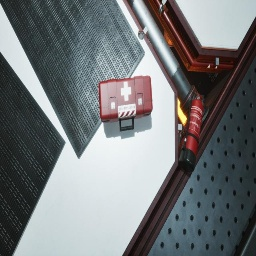FireExtinguisher ]: (179, 89, 203, 172)
FirstAidBox ,: (99, 76, 153, 132)
